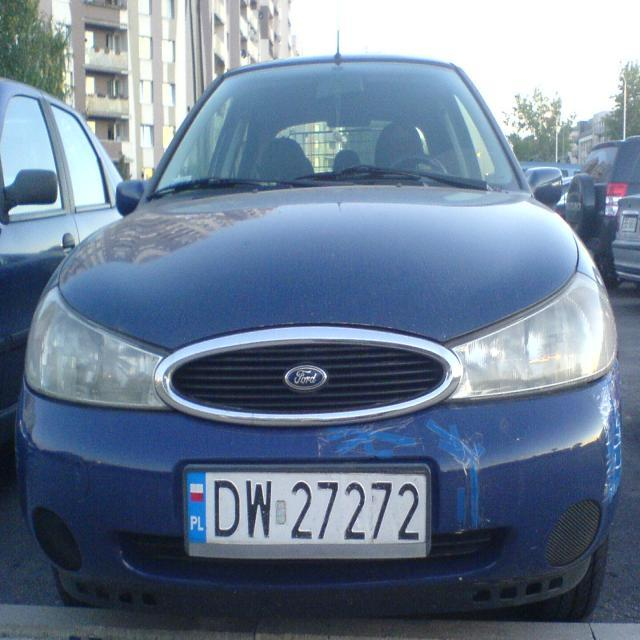license-plates: (186, 467, 430, 560)
